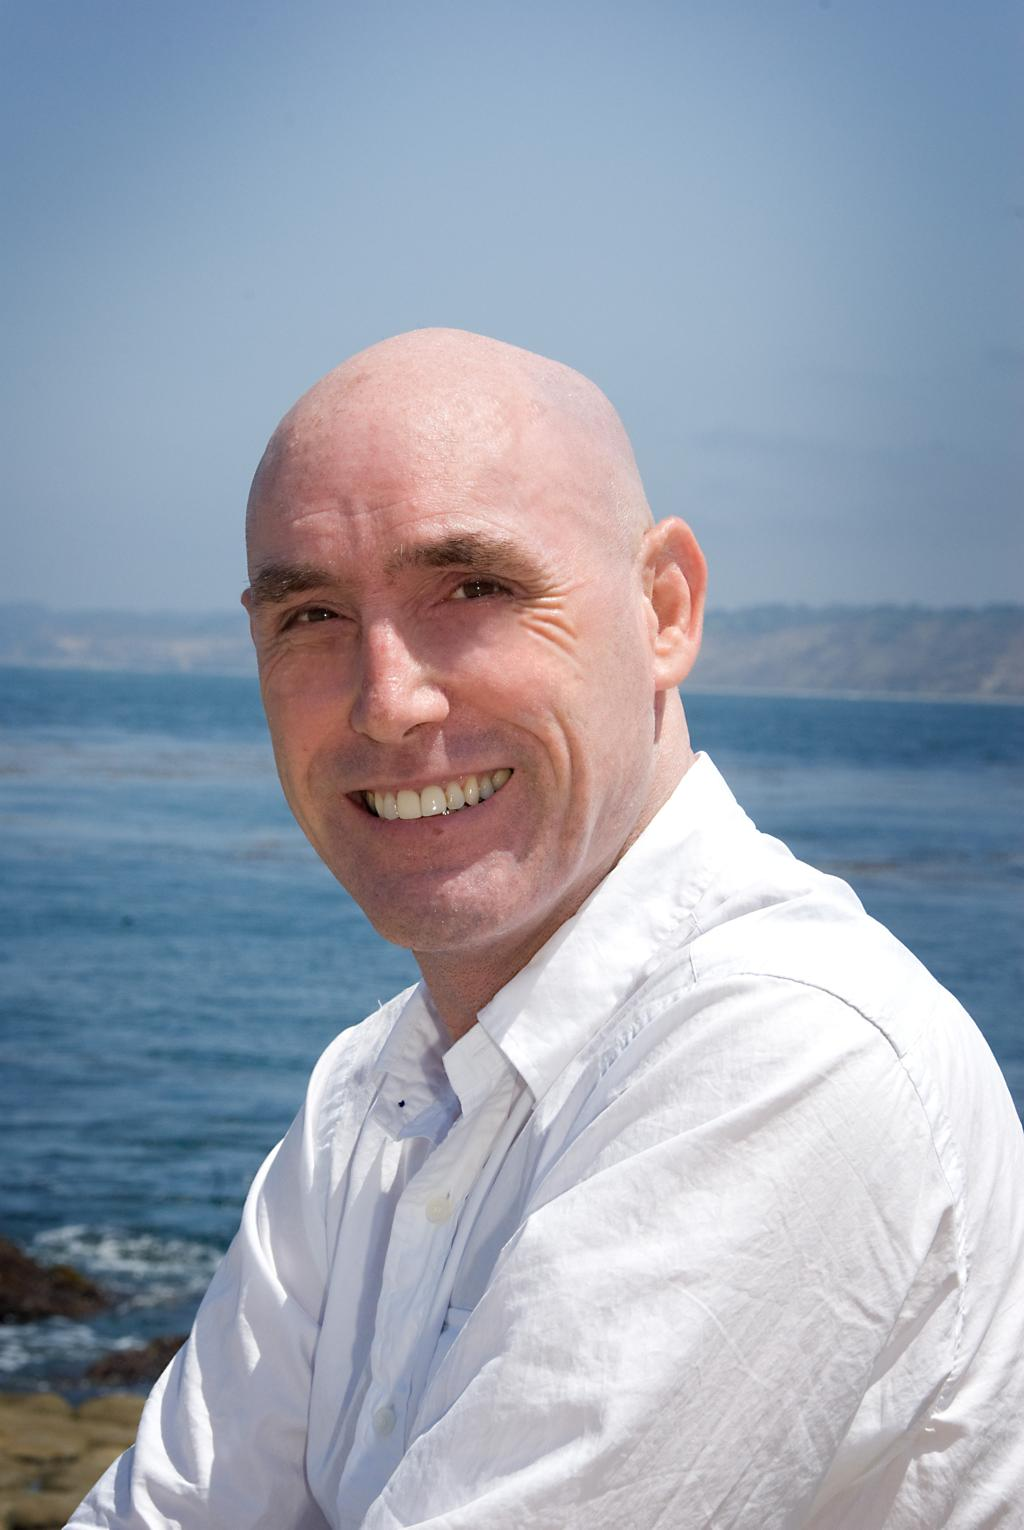face: (251, 439, 651, 947)
